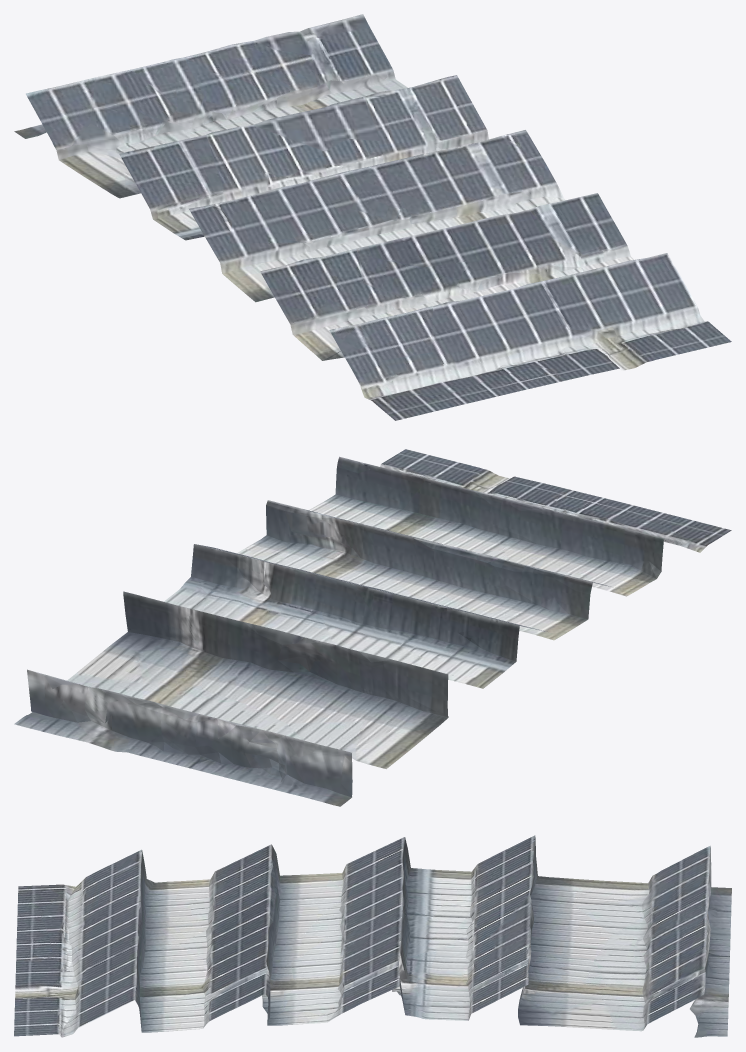
File: Tile_+007_+010_L21_0uuuu310.glb
3 views of the same model, one above another, from view 1: azimuth 30°, elevation 25°; view 2: azimuth 150°, elevation 25°; view 3: azimuth 270°, elevation 25° (orthographic). The views are drawn at different scales.
Visible parts, largest first — view 1: rtc; view 2: rtc; view 3: rtc.
Part boxes in pixels (box(x1,y1,x2,y2)): rtc: box(14, 14, 731, 420); rtc: box(14, 449, 731, 806); rtc: box(14, 835, 731, 1037).
Size of the model in its own units: 12.78 by 2.26 by 25.34.
1 material, 1 textured.
